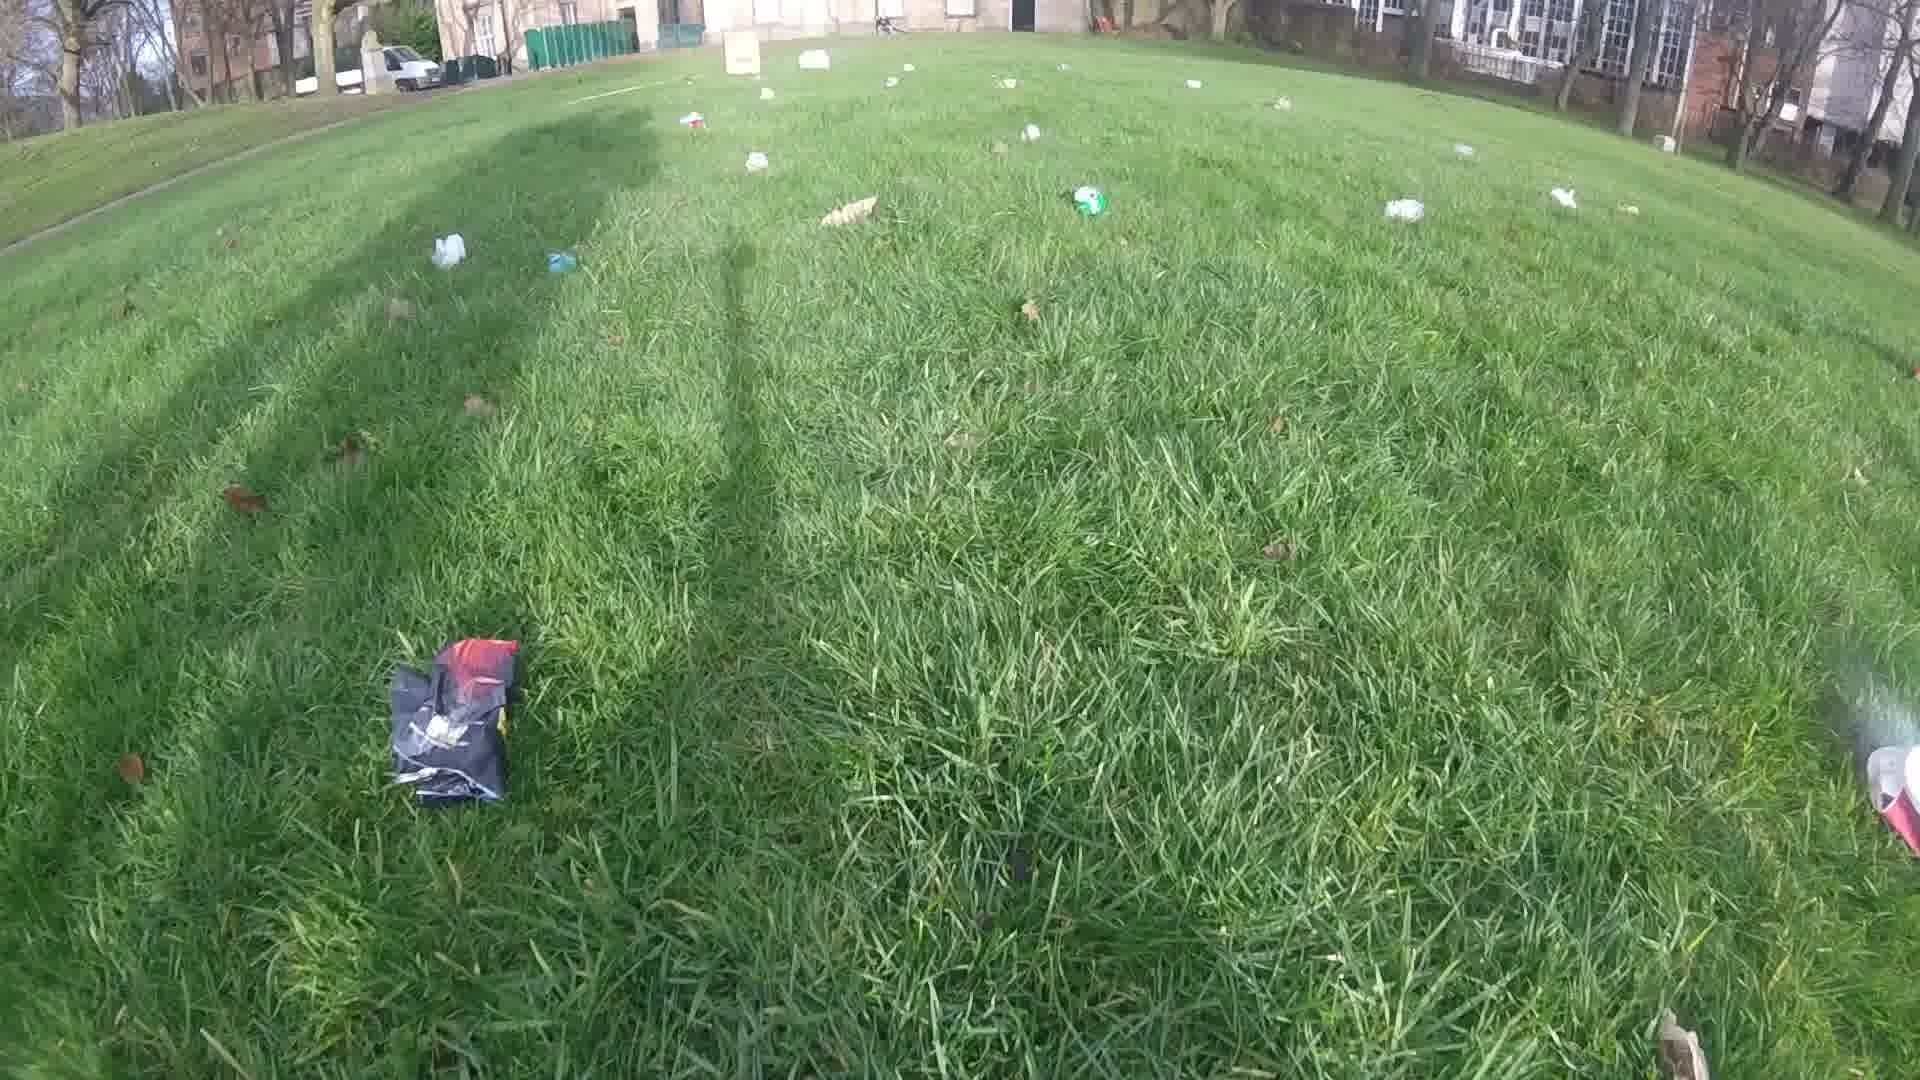litter: (386, 634, 512, 798), (1865, 744, 1920, 858), (819, 196, 877, 229), (727, 33, 764, 73), (429, 232, 468, 266), (1072, 185, 1106, 215), (1383, 200, 1427, 222), (1549, 185, 1578, 210), (799, 49, 829, 73), (545, 255, 578, 276), (746, 152, 767, 174), (1449, 145, 1477, 160), (1019, 124, 1040, 142), (683, 112, 707, 128), (1269, 98, 1294, 111), (1615, 204, 1638, 216), (1180, 78, 1201, 90), (1000, 78, 1017, 92), (756, 87, 774, 100), (884, 73, 898, 86), (897, 65, 916, 73)
